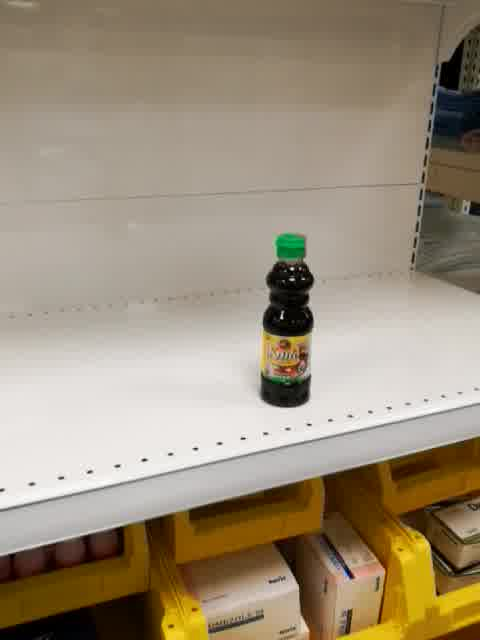cookingoil: (256, 230, 314, 408)
